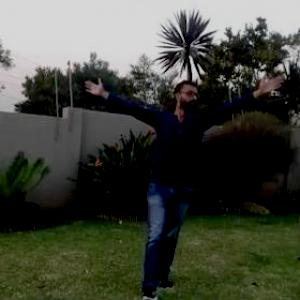takeoff: (56, 43, 299, 289)
